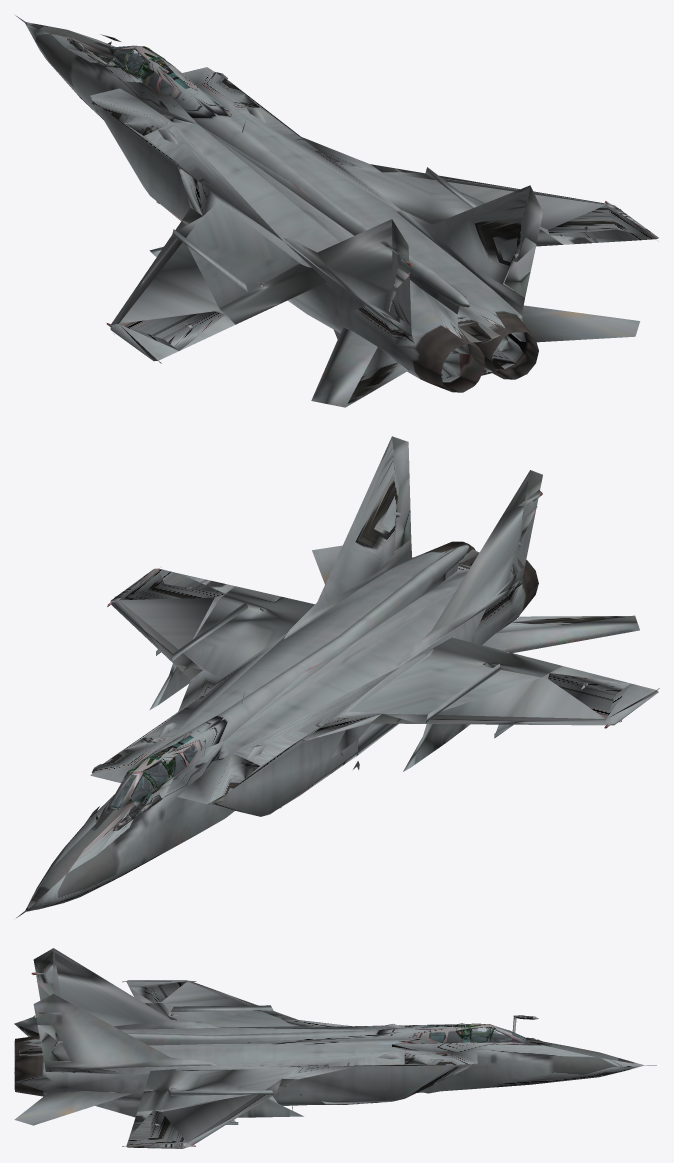
Rendered from e_mig31_lo.glb.
3 renders of one model, top to bottom at view 1: azimuth 30°, elevation 25°; view 2: azimuth 150°, elevation 25°; view 3: azimuth 270°, elevation 25°, orthographic. The views are drawn at different scales.
Visible parts, largest first — view 1: body|Body, body|Cockpit, body|glass; view 2: body|Body, body|glass, body|Cockpit; view 3: body|Body, body|glass, body|Cockpit.
Boxes of the visible parts, box(x1,y1,x2,y2) form: body|Body: box(15, 15, 658, 407); body|Cockpit: box(110, 46, 197, 106); body|glass: box(113, 46, 173, 95); body|Body: box(16, 436, 659, 917); body|glass: box(111, 745, 197, 830); body|Cockpit: box(110, 730, 205, 808); body|Body: box(14, 948, 656, 1148); body|glass: box(429, 1027, 523, 1042); body|Cockpit: box(411, 1023, 523, 1043).
Bounding box in the file's own units: 13.86 × 5.09 × 22.54.
4 materials, 3 textured.
